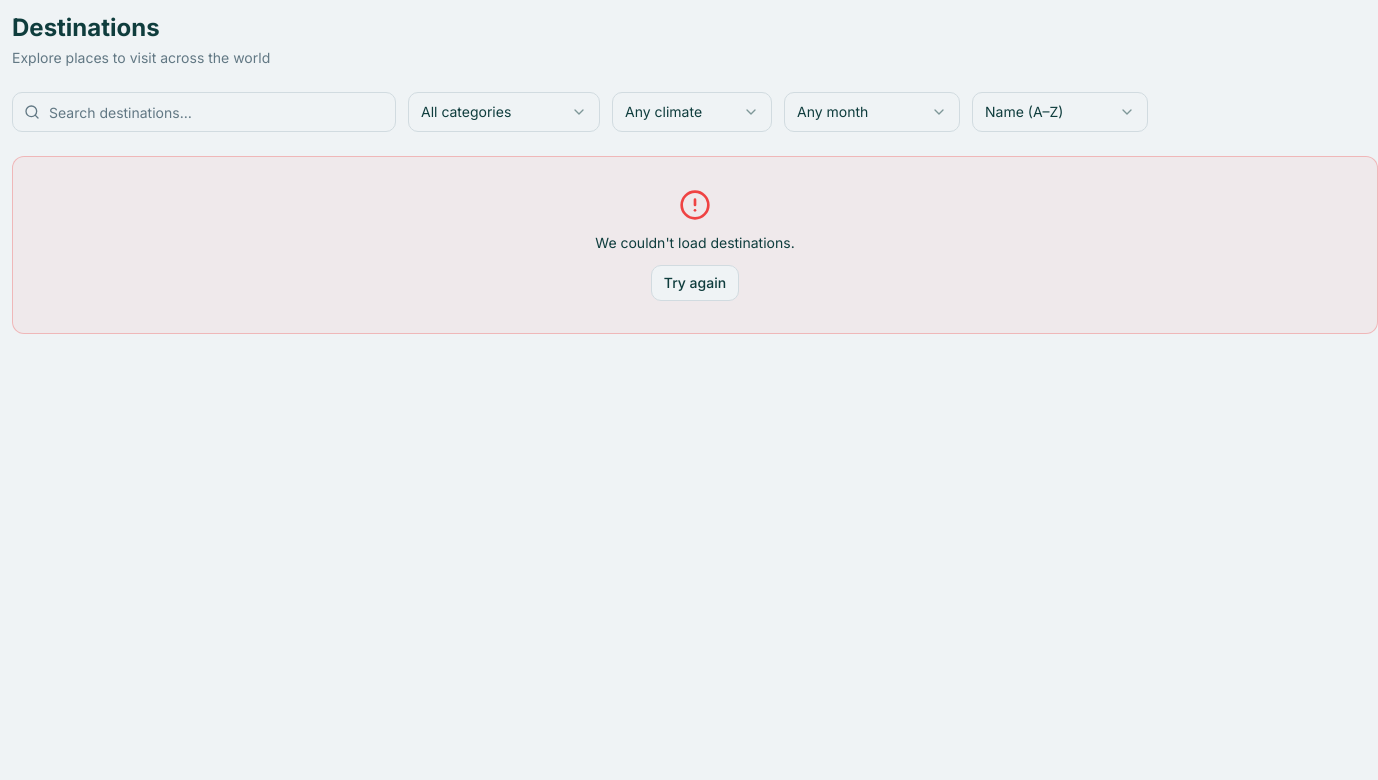
it: BrowseDestinations › shows an error state and recovers on retry
Expected: the message shows "couldn't load destinations", 595,234 -> 795,251
Click the button "Try again": (695,283) 651,265 -> 739,301
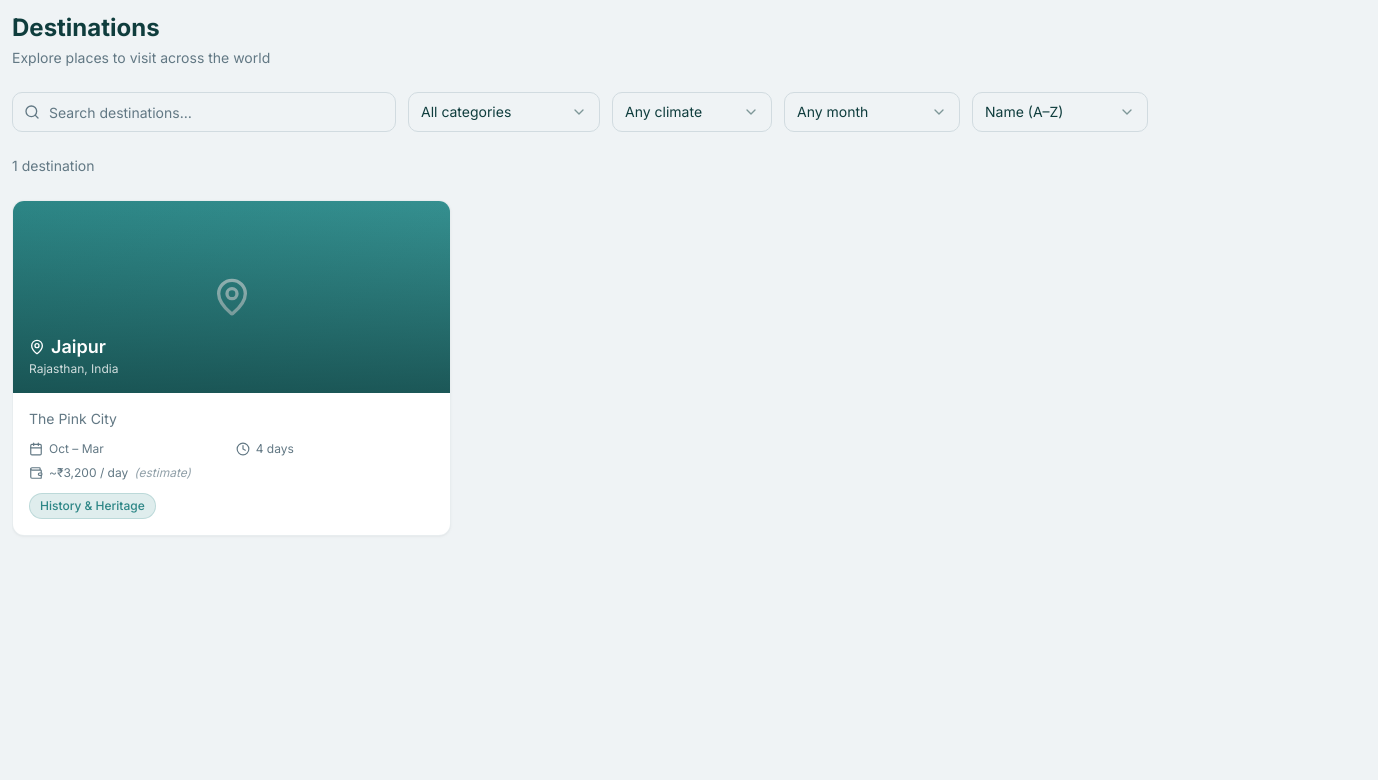
Expected: the heading "Jaipur" is shown, 29,336 -> 106,357
